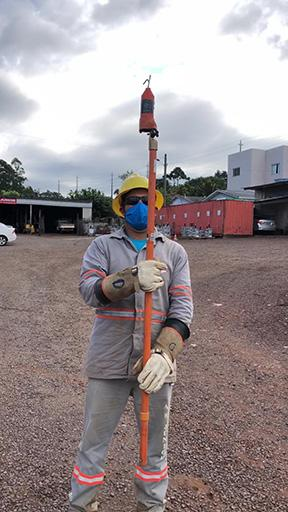Detector_Tensao_Contato: (139, 74, 155, 133)
Vara_Manobra: (138, 136, 158, 468)
